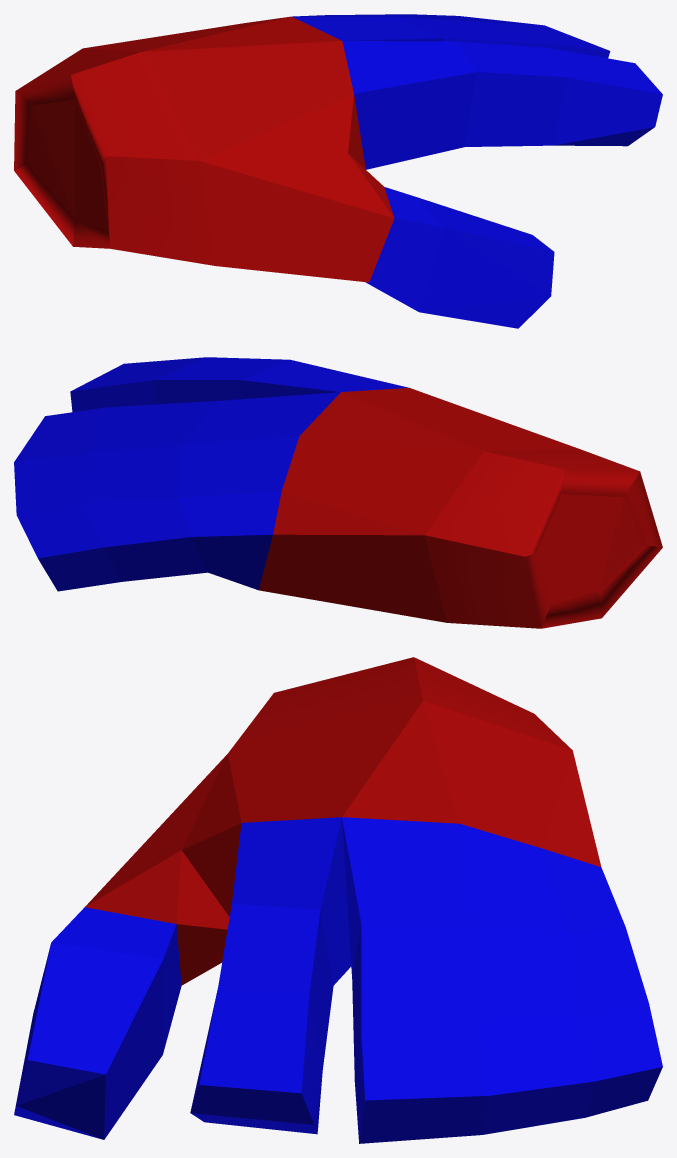
The model's file is Chr_HandLeft_Male_Static_08.fbx.
3 views of the same model, one above another, from view 1: azimuth 30°, elevation 25°; view 2: azimuth 150°, elevation 25°; view 3: azimuth 270°, elevation 25° (orthographic). The views are drawn at different scales.
Parts seen in each view (by area): view 1: Chr_HandLeft_Male_08; view 2: Chr_HandLeft_Male_08; view 3: Chr_HandLeft_Male_08.
Part boxes in pixels (<box>): Chr_HandLeft_Male_08: <box>14,14,662,328</box>; Chr_HandLeft_Male_08: <box>14,357,662,628</box>; Chr_HandLeft_Male_08: <box>14,657,662,1143</box>.
Size of the model in its own units: 23.7 by 9.52 by 18.8.
